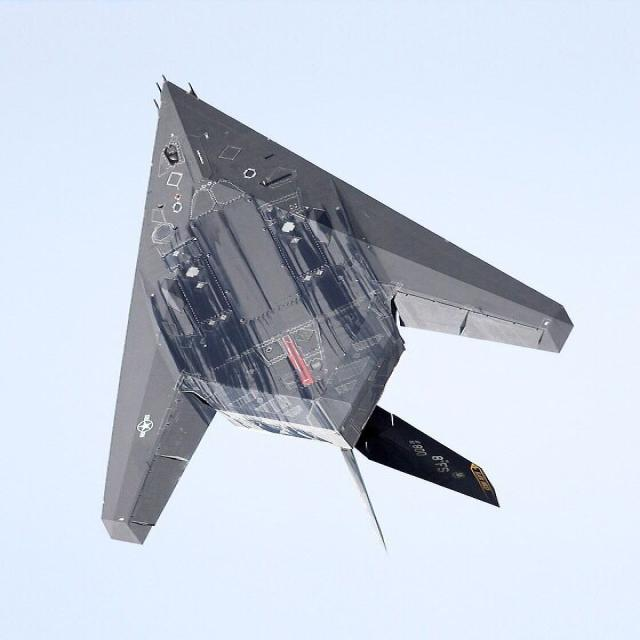MIL_Plane: (101, 74, 574, 556)
